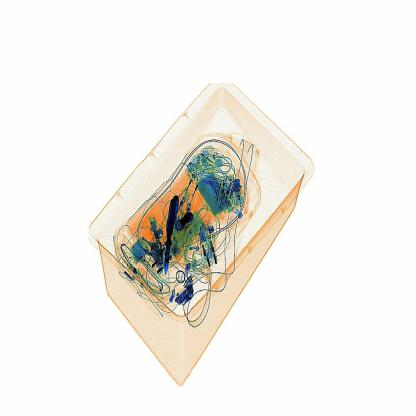gun: (157, 183, 180, 284)
